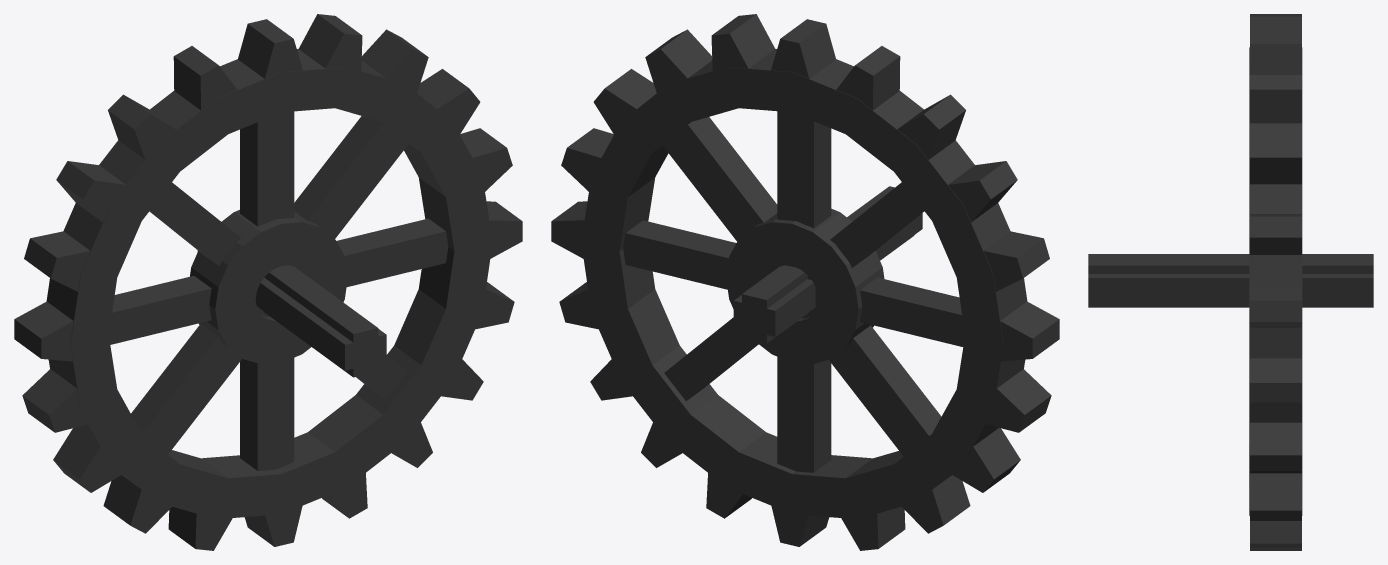
Rendered from gear2_geo.obj.
The picture shows the model from 3 angles, left to right: view 1: azimuth 30°, elevation 25°; view 2: azimuth 150°, elevation 25°; view 3: azimuth 270°, elevation 25°; orthographic projection. The views are drawn at different scales.
Visible parts, largest first — view 1: gear2_geo; view 2: gear2_geo; view 3: gear2_geo.
Part boxes in pixels (x1,y1,x2,y2): gear2_geo: [14, 14, 522, 550]; gear2_geo: [551, 14, 1059, 550]; gear2_geo: [1088, 14, 1373, 550].
Bounding box in the file's own units: 0.1692 × 0.1692 × 0.0898.
